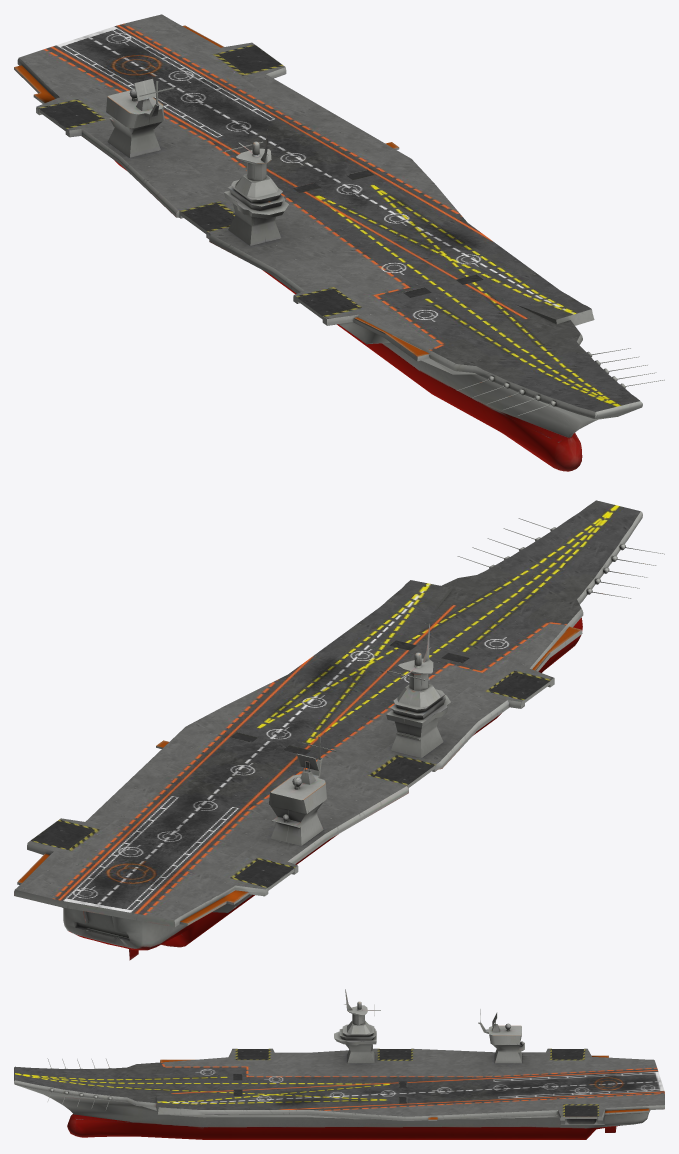
3 renders of one model, top to bottom at view 1: azimuth 30°, elevation 25°; view 2: azimuth 150°, elevation 25°; view 3: azimuth 270°, elevation 25°, orthographic. The views are drawn at different scales.
Visible parts, largest first — view 1: Shtorm, tower, elevator3, elevator1, elevator4, elevator2, attachers; view 2: Shtorm, tower, elevator2, elevator3, elevator1, elevator4, attachers; view 3: Shtorm, tower, elevator4, elevator2, elevator1, elevator3.
Boxes of the visible parts, x1=… form: Shtorm: x1=14, y1=14, x2=642, y2=471; tower: x1=106, y1=78, x2=288, y2=245; elevator3: x1=39, y1=101, x2=100, y2=130; elevator1: x1=297, y1=289, x2=357, y2=319; elevator4: x1=218, y1=45, x2=281, y2=73; elevator2: x1=180, y1=203, x2=234, y2=233; attachers: x1=456, y1=348, x2=664, y2=415; Shtorm: x1=14, y1=500, x2=642, y2=960; tower: x1=269, y1=624, x2=450, y2=845; elevator2: x1=374, y1=757, x2=434, y2=787; elevator3: x1=234, y1=859, x2=294, y2=890; elevator1: x1=489, y1=672, x2=550, y2=702; elevator4: x1=31, y1=821, x2=94, y2=849; attachers: x1=457, y1=518, x2=664, y2=598; Shtorm: x1=14, y1=1048, x2=664, y2=1139; tower: x1=334, y1=989, x2=524, y2=1063; elevator4: x1=565, y1=1105, x2=597, y2=1118; elevator2: x1=379, y1=1049, x2=411, y2=1059; elevator1: x1=237, y1=1049, x2=268, y2=1059; elevator3: x1=552, y1=1049, x2=583, y2=1059.
Bounding box in the file's own units: 1408 × 1155 × 5521.
1 material, 1 textured.
